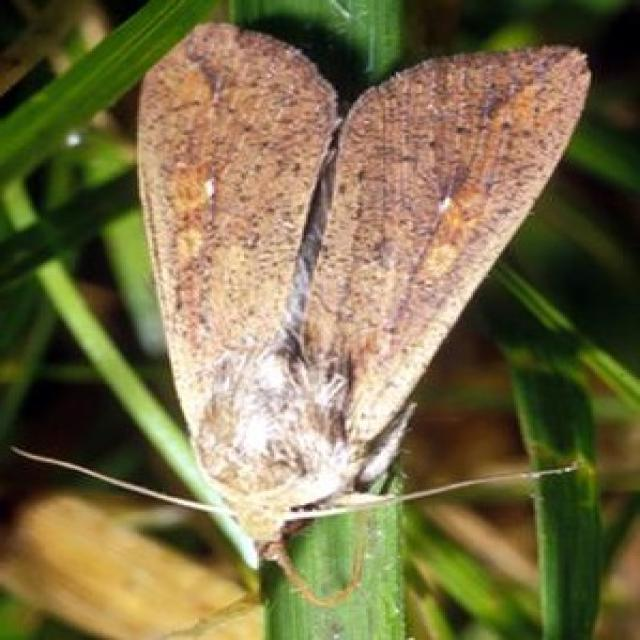army worm: (109, 24, 595, 560)
